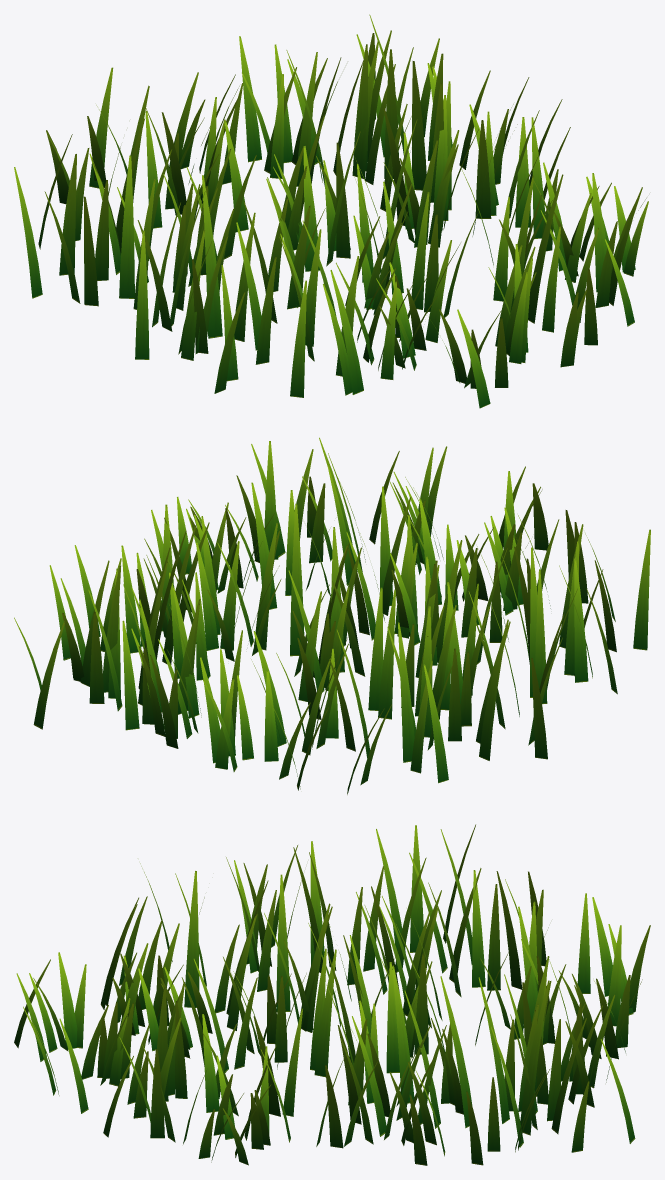
File: grass.fbx
3 renders of one model, top to bottom at view 1: azimuth 30°, elevation 25°; view 2: azimuth 150°, elevation 25°; view 3: azimuth 270°, elevation 25°, orthographic. The views are drawn at different scales.
Visible parts, largest first — view 1: Plane.5375; view 2: Plane.5375; view 3: Plane.5375.
Boxes of the visible parts, x1,y1,x2,y2 form: Plane.5375: (14, 14, 648, 408); Plane.5375: (14, 437, 650, 794); Plane.5375: (14, 824, 650, 1165).
Size of the model in its own units: 50.59 by 13.95 by 56.75.
